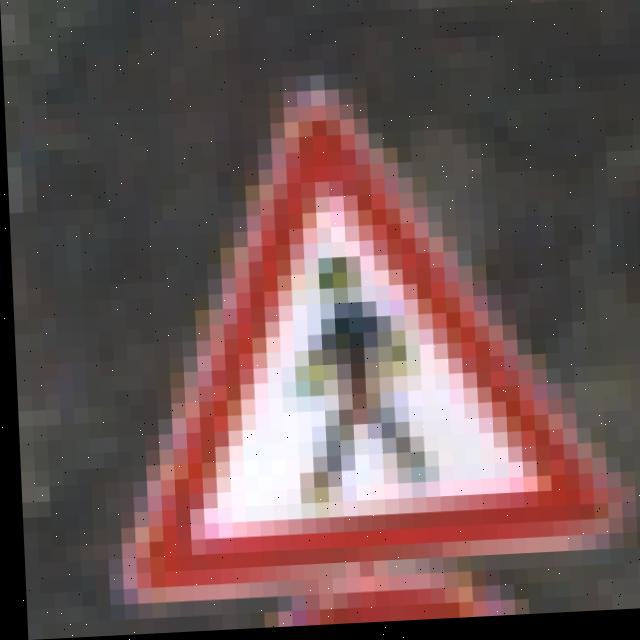crosswalk: (111, 120, 626, 571)
